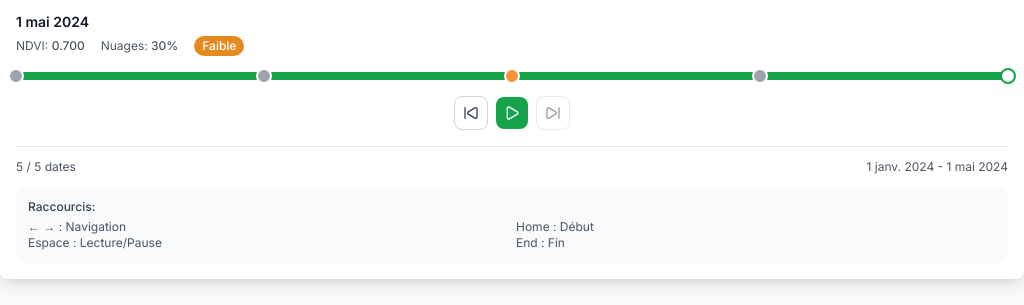
Test: TemporalSlider › Date Selection › disables skip to start when at first date
The image size is (1024, 305).
// Go to start
Click the button named "Skip to start": point(471, 113) [454,96,488,130]
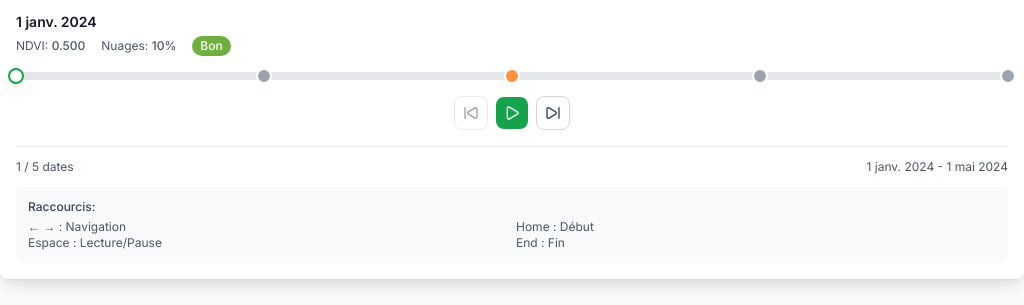
Now the button named "Skip to start" is disabled, box [454,96,488,130]
